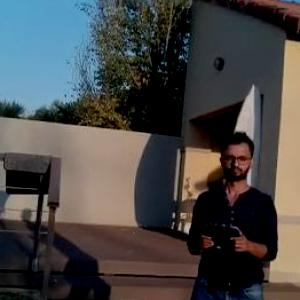follow: (174, 126, 282, 299)
